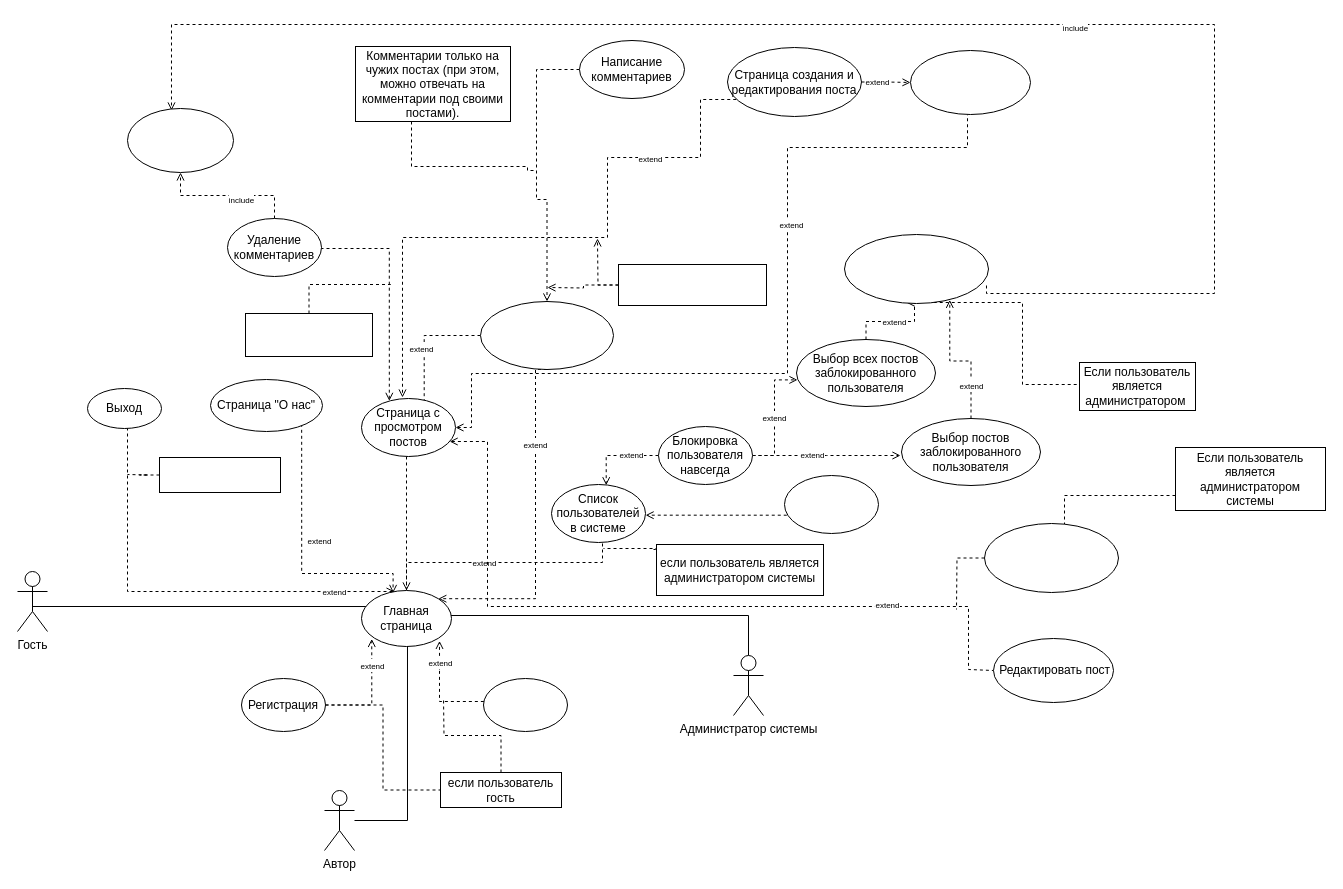
Some shapes in this 1343 by 889 pixel diagram are drawn without their labels. The shapes that lost their labels are listed below. From the top down, each one's centre as x and y in pixels, then its label:
point (970, 82): Написание поста
point (180, 140): Удаление ветки комментариев
point (692, 285): Если пользователь автор
point (916, 269): Удаление постов и комментариев пользователя
point (308, 334): Если пользователь - администратор системы
point (547, 335): Страница поста с детальной информацией
point (219, 474): если пользователь авторизирован
point (831, 504): Блокировка пользователя на время
point (1051, 557): Удаление поста
point (525, 705): Авторизация
